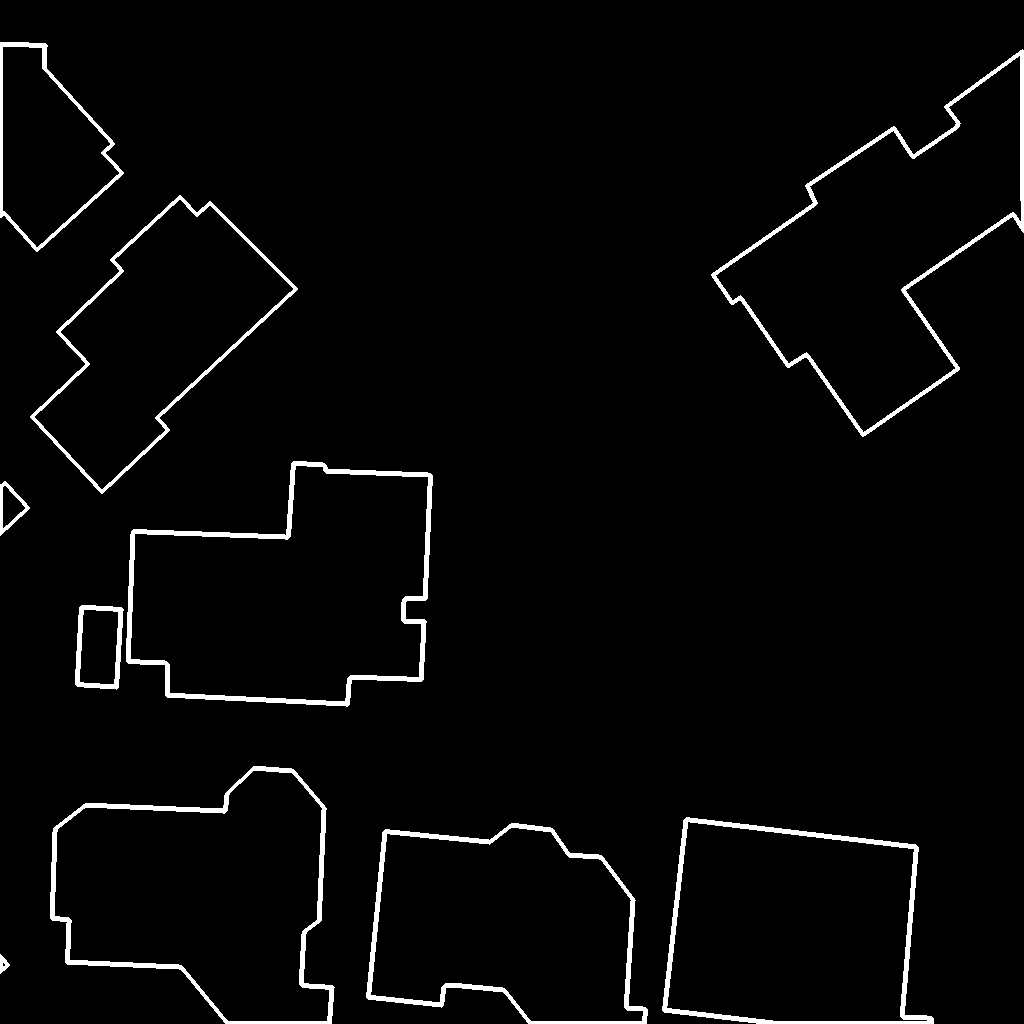building: (713, 51, 1024, 436), (32, 197, 297, 493), (128, 463, 432, 705), (52, 768, 333, 1024), (368, 825, 647, 1024), (664, 819, 933, 1024), (0, 44, 123, 251), (77, 607, 122, 688), (0, 483, 29, 535), (0, 956, 9, 973)
